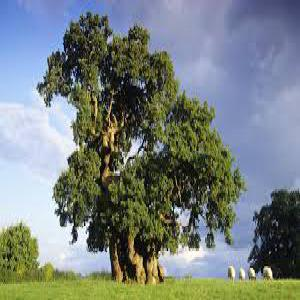Tree: (36, 7, 243, 282)
